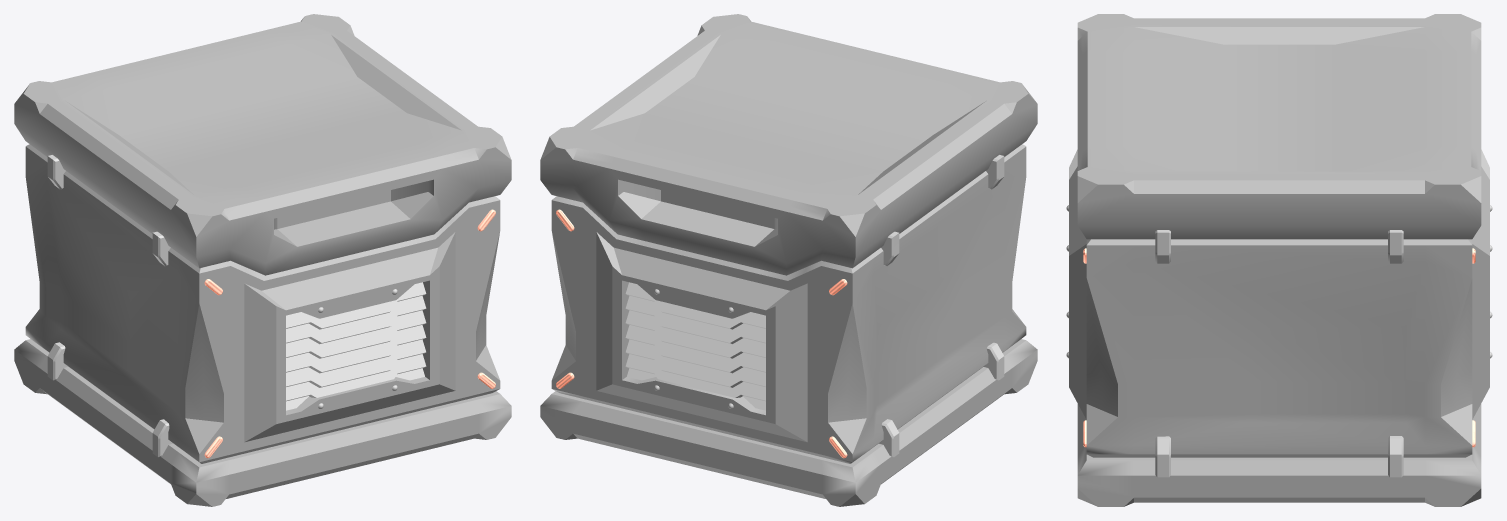
The model's file is KB3D_CPP_PropCrate_B.fbx.
3 renders of one model, left to right at view 1: azimuth 30°, elevation 25°; view 2: azimuth 150°, elevation 25°; view 3: azimuth 270°, elevation 25°, orthographic. The views are drawn at different scales.
Visible parts, largest first — view 1: KB3D_CPP_PropCrate_B_Main; view 2: KB3D_CPP_PropCrate_B_Main; view 3: KB3D_CPP_PropCrate_B_Main.
Part boxes in pixels (x1=…): KB3D_CPP_PropCrate_B_Main: x1=14, y1=14, x2=511, y2=506; KB3D_CPP_PropCrate_B_Main: x1=540, y1=14, x2=1037, y2=506; KB3D_CPP_PropCrate_B_Main: x1=1066, y1=14, x2=1492, y2=506.
Size of the model in its own units: 91.98 by 79.75 by 95.53.
